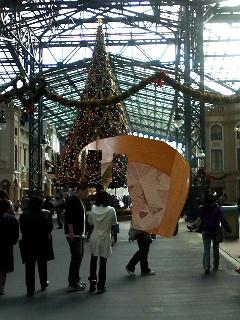tampered: (74, 135, 190, 238)
